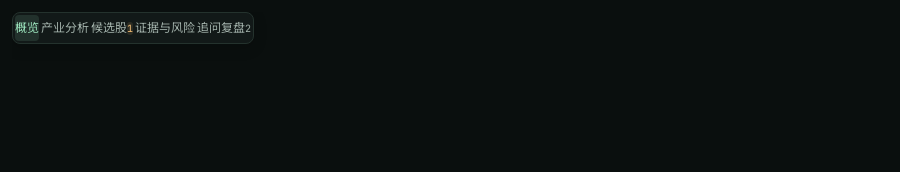
Test: DirectionResultTabs 追问页签（v39 接线契约） › 传入 followup 面板 → 「追问复盘」页签出现，点击后渲染面板内容
The width and height of the screenshot is (900, 172).
Click the tab "追问复盘 2". click: (224, 28)
box: [197,15,251,41]
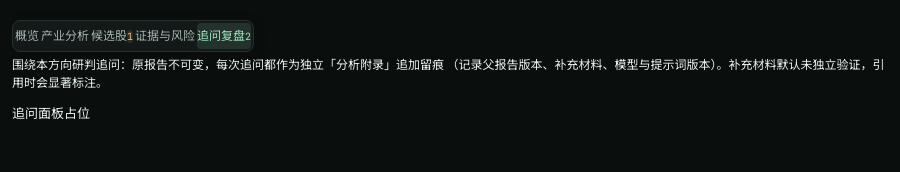
Expected: the text "追问面板占位" is shown, [12,104,90,122]
